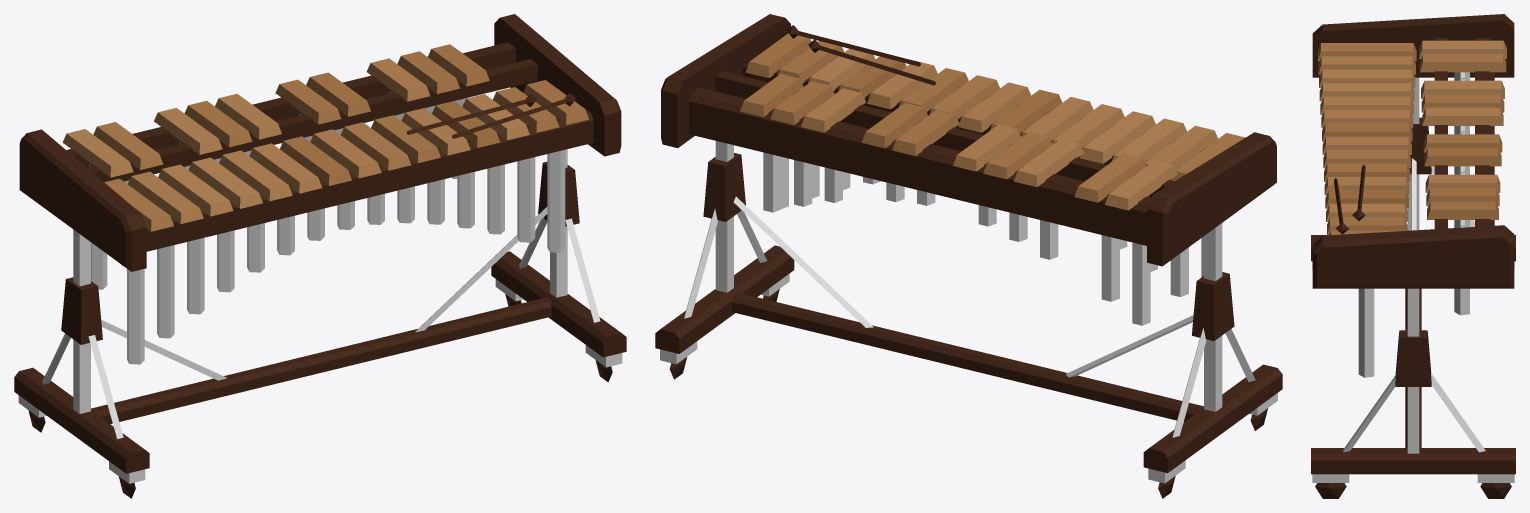
The model's file is xylophone-5a7f8e.glb.
The picture shows the model from 3 angles, left to right: view 1: azimuth 30°, elevation 25°; view 2: azimuth 150°, elevation 25°; view 3: azimuth 270°, elevation 25°; orthographic projection. The views are drawn at different scales.
Parts seen in each view (by area): view 1: xylophone-body, xylophone-hardware, mallets-mesh; view 2: xylophone-body, xylophone-hardware, mallets-mesh; view 3: xylophone-body, xylophone-hardware, mallets-mesh, wheel-fr-mesh, wheel-br-mesh.
Part boxes in pixels (box(x1,y1,x2,y2)): xylophone-body: box(14, 14, 626, 473); xylophone-hardware: box(18, 91, 622, 483); mallets-mesh: box(406, 93, 575, 138); xylophone-body: box(655, 14, 1282, 473); xylophone-hardware: box(660, 141, 1277, 483); mallets-mesh: box(787, 25, 936, 85); xylophone-body: box(1311, 14, 1515, 474); xylophone-hardware: box(1312, 72, 1514, 482); mallets-mesh: box(1334, 164, 1365, 234); wheel-fr-mesh: box(1315, 483, 1346, 498); wheel-br-mesh: box(1480, 483, 1511, 498).
Bounding box in the file's own units: 1.6 × 0.9 × 0.62.
